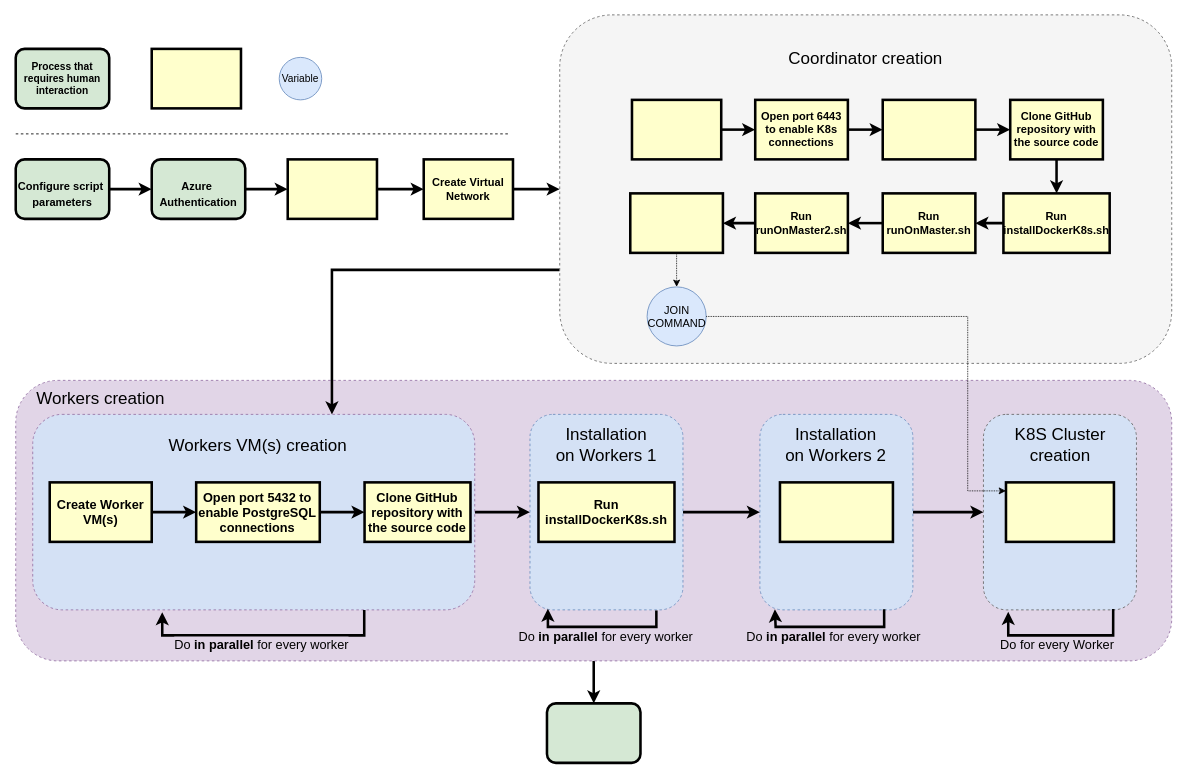
The diagram is 1187 pixels wide and 779 high, and some of its shapes have lost their labels. The shapes that lost their labels are listed below. From the top down, each one's box as (x1, y1, x2, y2) in pixels, then its label:
(150, 47, 242, 109): Azure CLI process
(630, 98, 722, 160): Create Coordinator VM
(881, 98, 976, 160): Open port 3001 to enable K8s service exposure
(286, 158, 378, 220): Create Resource Group
(629, 192, 724, 254): Store the Join-to-K8s-cluster command
(778, 481, 894, 543): Run runOnWorker.sh
(1004, 481, 1115, 543): Join Worker to K8S Cluster
(545, 702, 641, 764): Execute startK8s.sh
